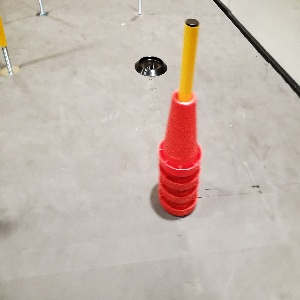Red_4: (156, 85, 203, 219)
